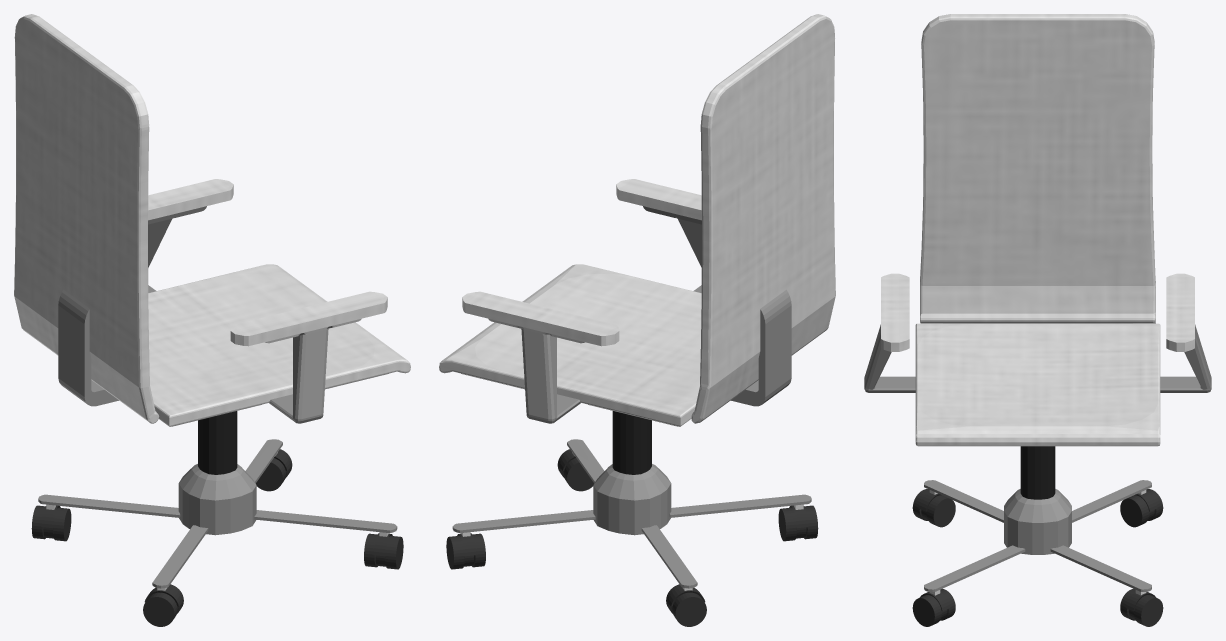
File: chair_white.obj
3 views of the same model, side by side, from view 1: azimuth 30°, elevation 25°; view 2: azimuth 150°, elevation 25°; view 3: azimuth 270°, elevation 25° (orthographic). The views are drawn at different scales.
Visible parts, largest first — view 1: chair, base; view 2: chair, base; view 3: chair, base.
Part boxes in pixels (<box>): chair: <box>14,14,410,426</box>; base: <box>31,206,403,626</box>; chair: <box>439,14,835,426</box>; base: <box>446,206,818,626</box>; chair: <box>881,14,1194,446</box>; base: <box>864,324,1211,626</box>.
Size of the model in its own units: 1.07 by 1.97 by 1.25.
Materials: 2 (2 with a texture image).
